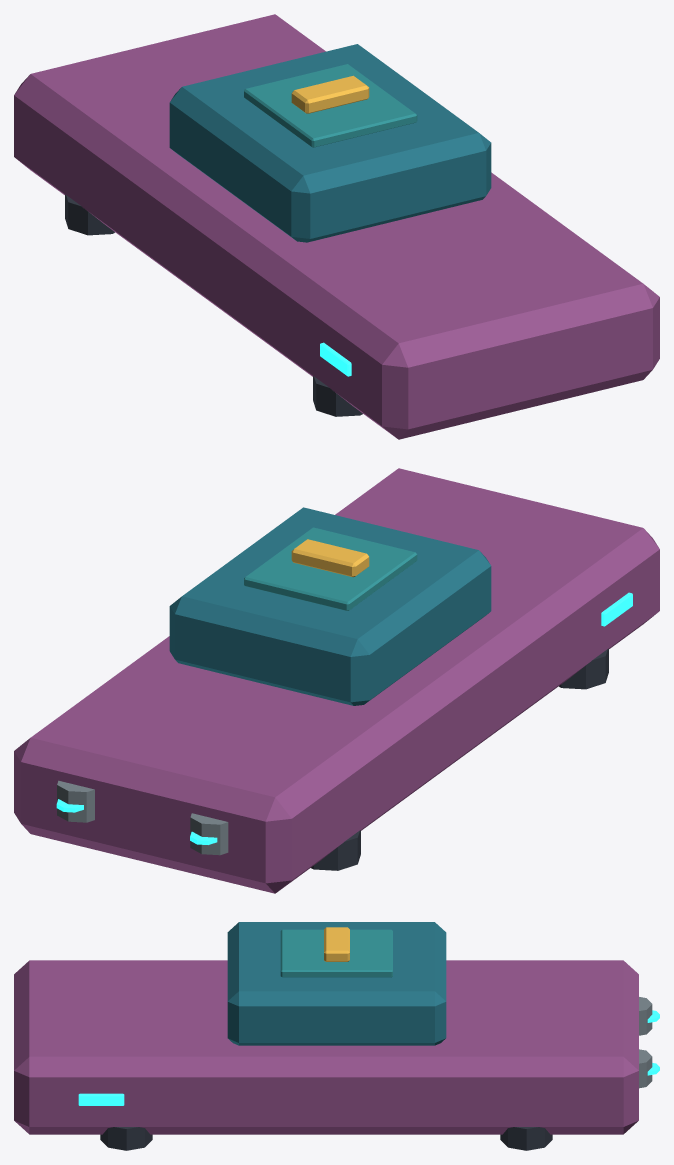
File: vehicles_004_seed100.glb
3 views of the same model, one above another, from view 1: azimuth 30°, elevation 25°; view 2: azimuth 150°, elevation 25°; view 3: azimuth 270°, elevation 25° (orthographic). The views are drawn at different scales.
Visible parts, largest first — view 1: vehicles_004_seed100; view 2: vehicles_004_seed100; view 3: vehicles_004_seed100.
Boxes of the visible parts, x1,y1,x2,y2 form: vehicles_004_seed100: (14,14,659,439); vehicles_004_seed100: (14,468,659,893); vehicles_004_seed100: (14,922,659,1150).
Size of the model in its own units: 2.48 by 1.6 by 5.93.
